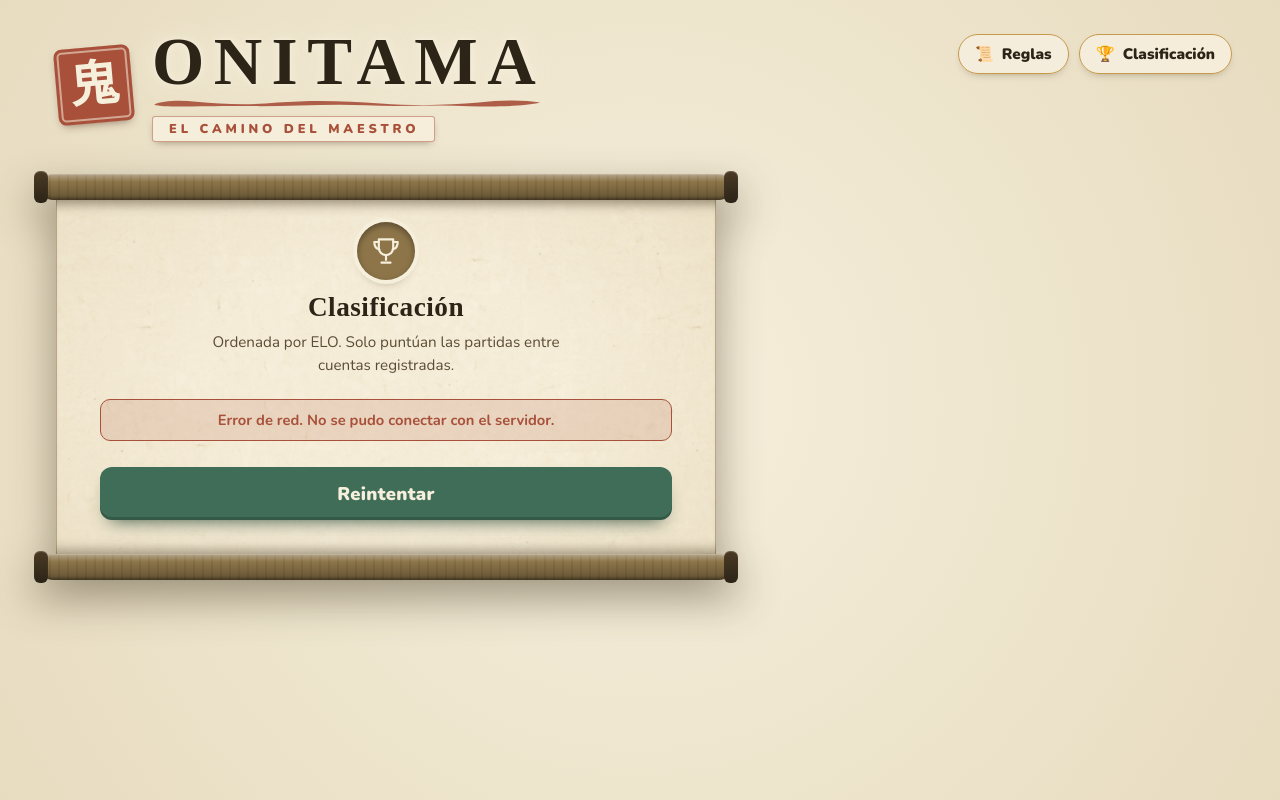
Test: RankingPage › si falla, muestra un mensaje de error y permite reintentar
The width and height of the screenshot is (1280, 800).
Expected: the message shows "Error de red", [218,410,554,430]
Click the button "Reintentar".
click(386, 493)  # box [100,467,672,520]
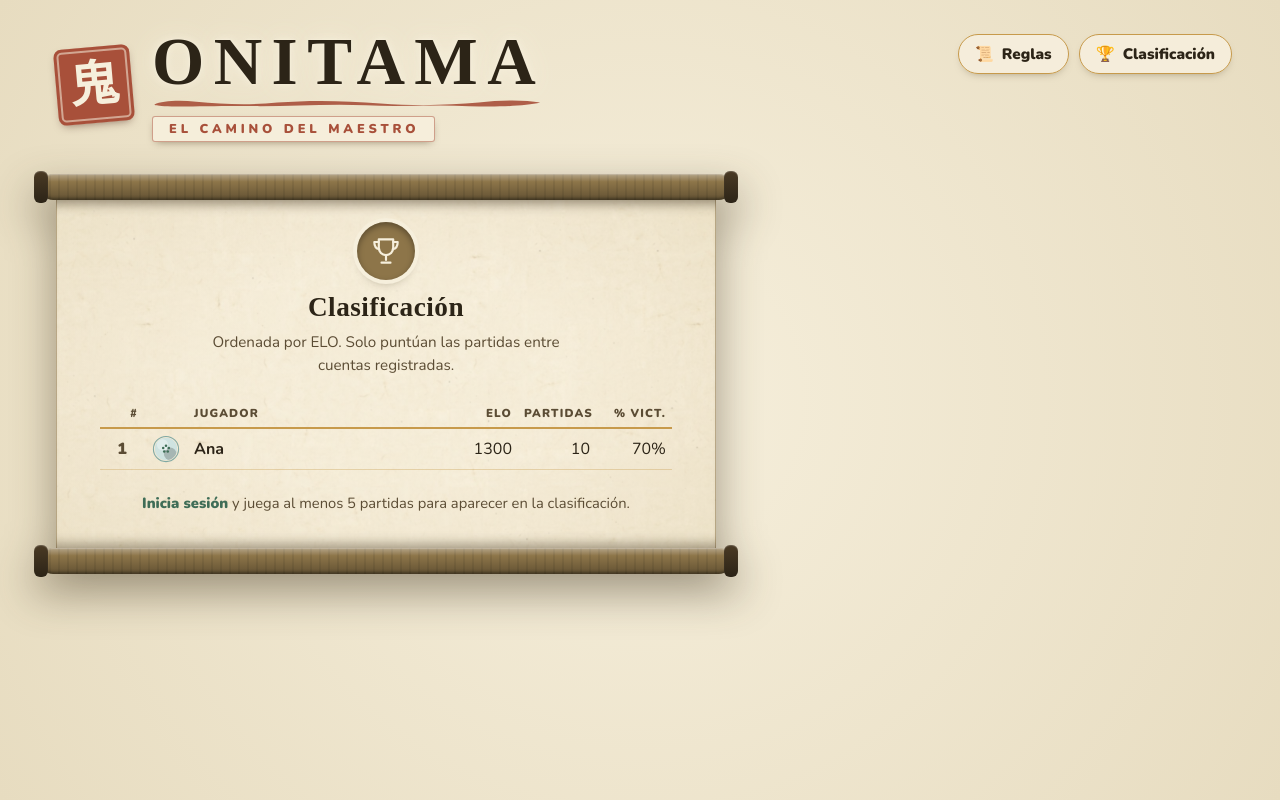
Now the row "1 Ana 1300 10 70%" is shown, box [100,429,672,469]
Now the message "Error de red. No se pudo conectar con el servidor." is gone
